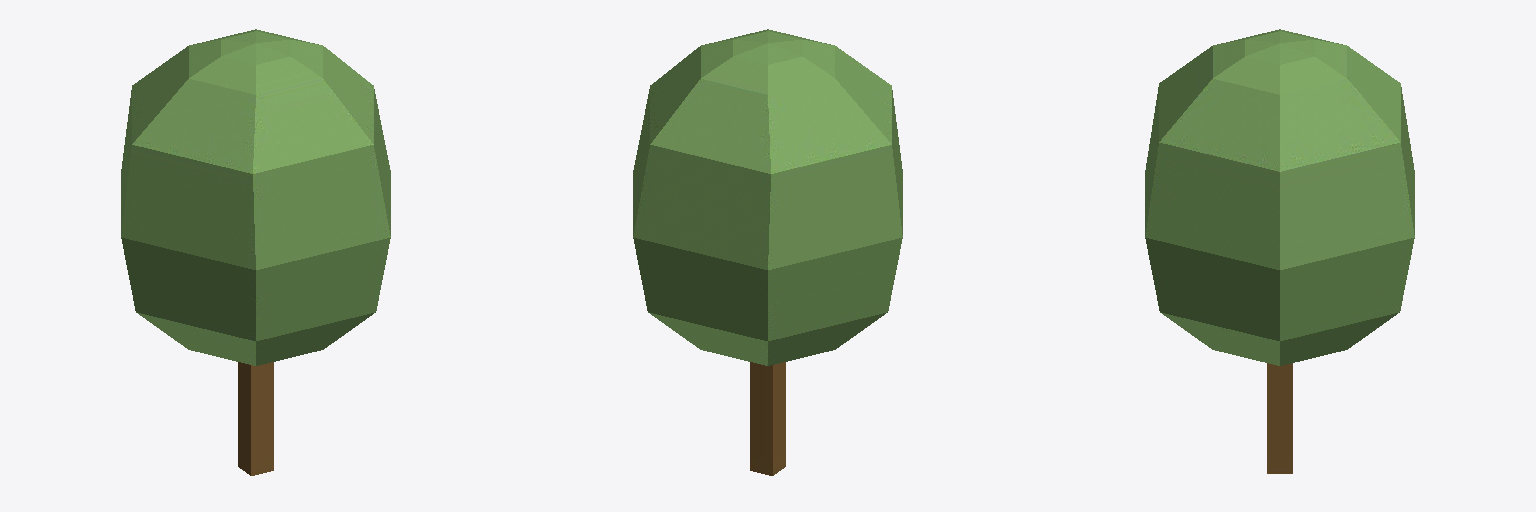
The picture shows the model from 3 angles: view 1: azimuth 30°, elevation 25°; view 2: azimuth 150°, elevation 25°; view 3: azimuth 270°, elevation 25°; orthographic projection.
Visible parts, largest first — view 1: Tree_E_メッシュ.004; view 2: Tree_E_メッシュ.004; view 3: Tree_E_メッシュ.004.
Boxes of the visible parts, <box> form: Tree_E_メッシュ.004: <box>121,29,390,475</box>; Tree_E_メッシュ.004: <box>633,29,902,475</box>; Tree_E_メッシュ.004: <box>1145,29,1414,473</box>.
Bounding box in the file's own units: 4.69 × 7.08 × 4.07.
Materials: 1 (1 with a texture image).